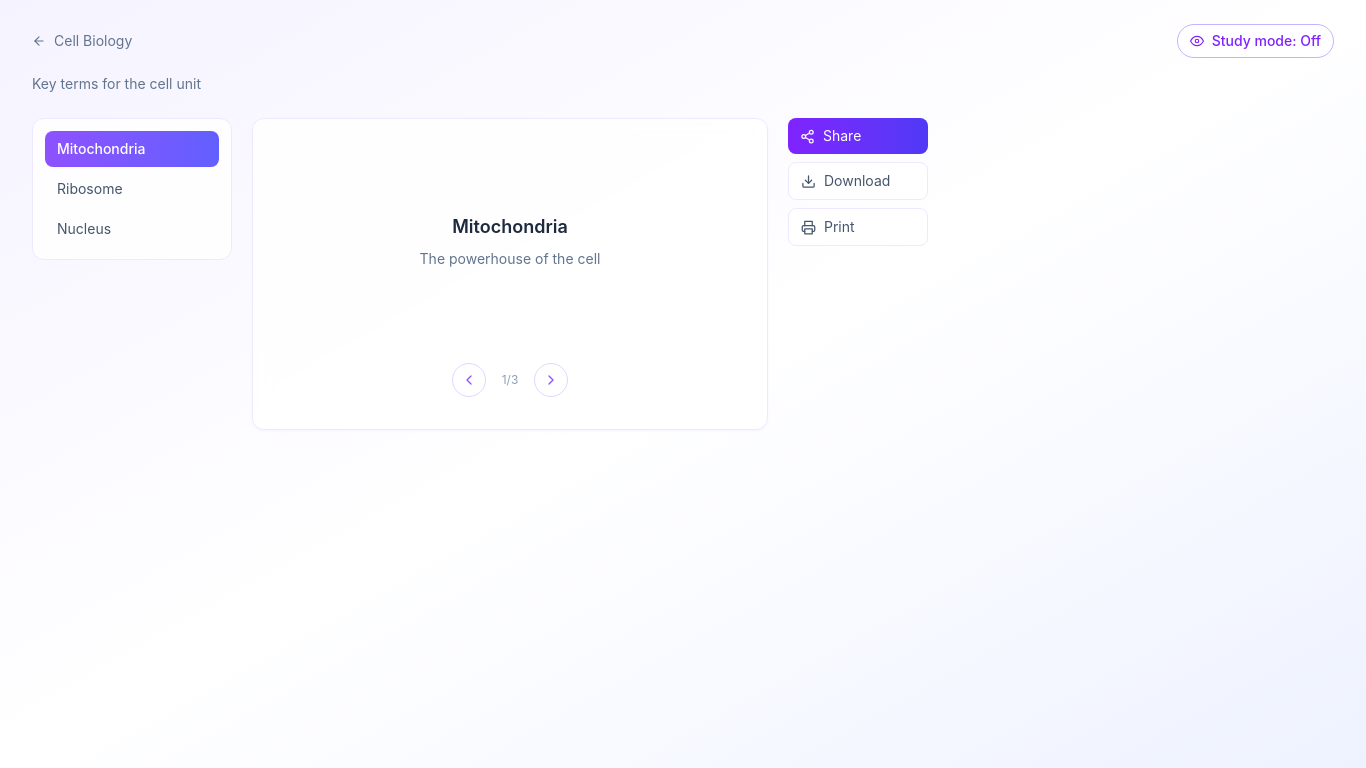
Scenario: FlashcardDetailsPage › navigates to the previous term, wrapping to the last term from the first
Click the button named "previous term". click: (469, 380)
box: x1=452 y1=363 x2=486 y2=397
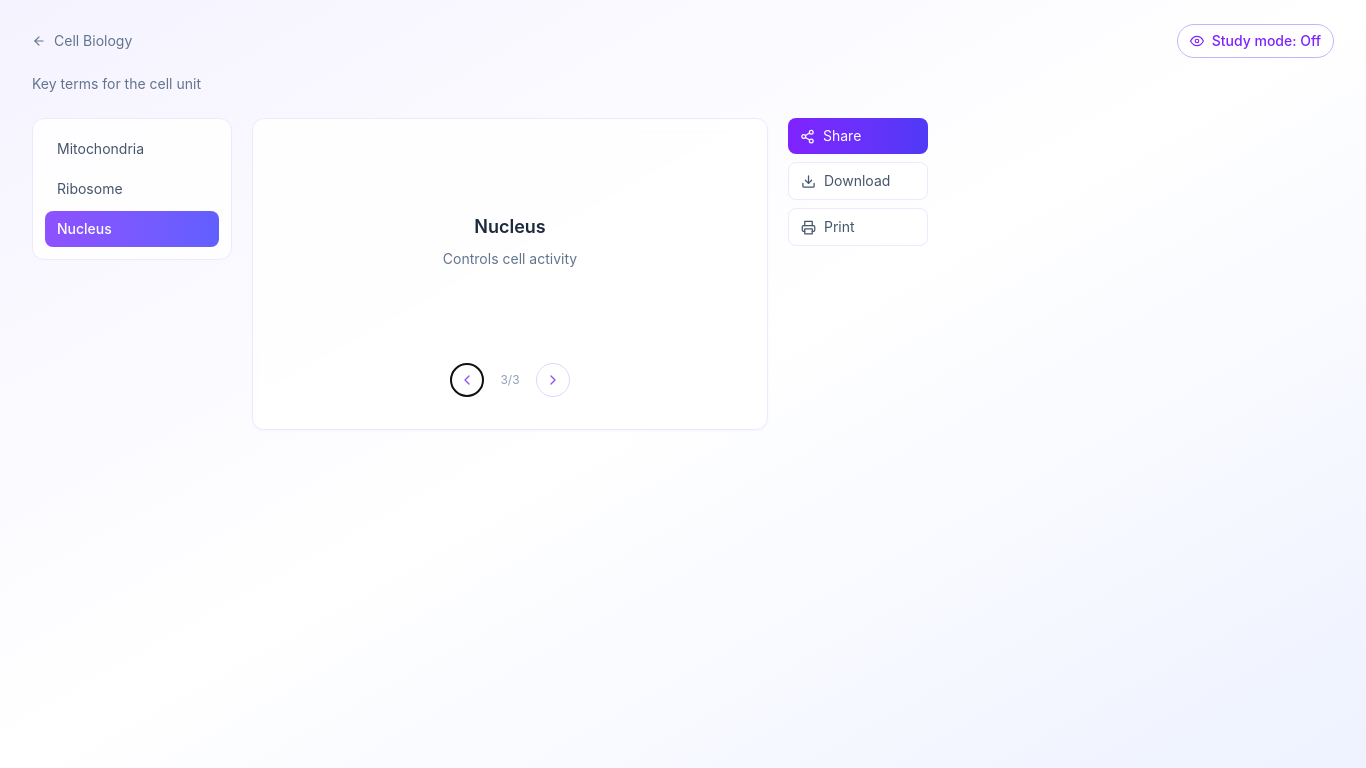
Check: the text "Nucleus" is shown, box x1=474 y1=213 x2=546 y2=241
Check: the text "3/3" is shown, box x1=500 y1=372 x2=520 y2=388
